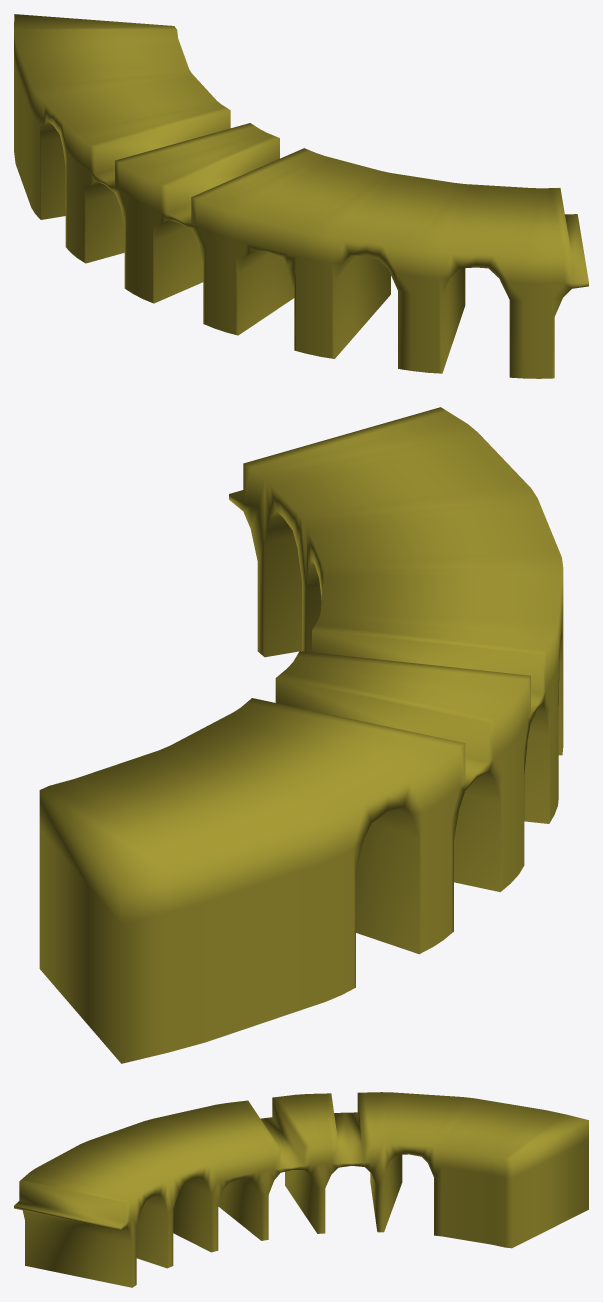
Rendered from ArenaStandsPrt3_UV.fbx.
3 renders of one model, top to bottom at view 1: azimuth 30°, elevation 25°; view 2: azimuth 150°, elevation 25°; view 3: azimuth 270°, elevation 25°, orthographic. The views are drawn at different scales.
Visible parts, largest first — view 1: Cylinder055; view 2: Cylinder055; view 3: Cylinder055.
Part boxes in pixels (x1,y1,x2,y2): Cylinder055: (14,14,588,378); Cylinder055: (39,407,563,1063); Cylinder055: (14,1092,588,1287).
Bounding box in the file's own units: 65.35 × 23.51 × 137.
